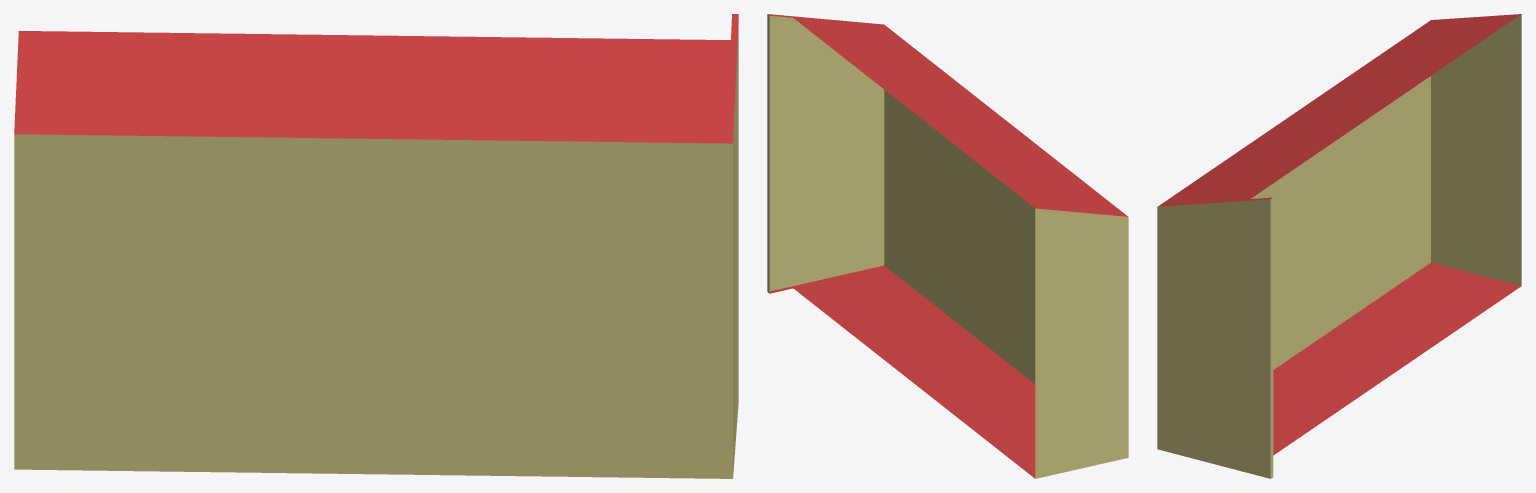
3 views of the same model, side by side, from view 1: azimuth 30°, elevation 25°; view 2: azimuth 150°, elevation 25°; view 3: azimuth 270°, elevation 25° (orthographic). The views are drawn at different scales.
Parts seen in each view (by area): view 1: group_4, group_3; view 2: group_4, group_5, group_3; view 3: group_4, group_5, group_3.
Part boxes in pixels (x1,y1,x2,y2): group_4: [14, 20, 738, 478]; group_3: [14, 14, 738, 143]; group_4: [767, 14, 1128, 478]; group_5: [769, 265, 1035, 478]; group_3: [768, 14, 1127, 216]; group_4: [1157, 14, 1521, 478]; group_5: [1273, 262, 1521, 455]; group_3: [1158, 14, 1520, 206].
Bounding box in the file's own units: 21.51 × 15.3 × 12.96.
